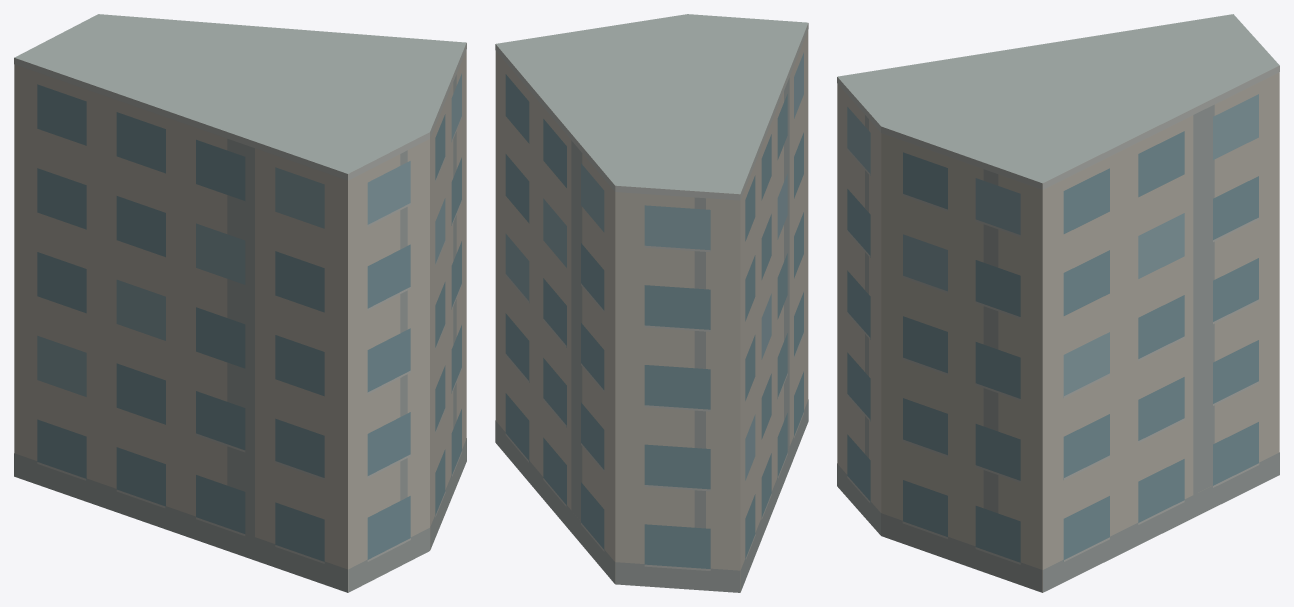
Rendered from survey-upis-32867233.glb.
3 renders of one model, left to right at view 1: azimuth 30°, elevation 25°; view 2: azimuth 150°, elevation 25°; view 3: azimuth 270°, elevation 25°, orthographic. The views are drawn at different scales.
Parts seen in each view (by area): view 1: survey-upis-32867233.tmp; view 2: survey-upis-32867233.tmp; view 3: survey-upis-32867233.tmp.
Boxes of the visible parts, x1=… form: survey-upis-32867233.tmp: x1=14, y1=14, x2=466, y2=592; survey-upis-32867233.tmp: x1=495, y1=14, x2=808, y2=592; survey-upis-32867233.tmp: x1=837, y1=14, x2=1279, y2=592.
Bounding box in the file's own units: 13.58 × 15.3 × 15.
